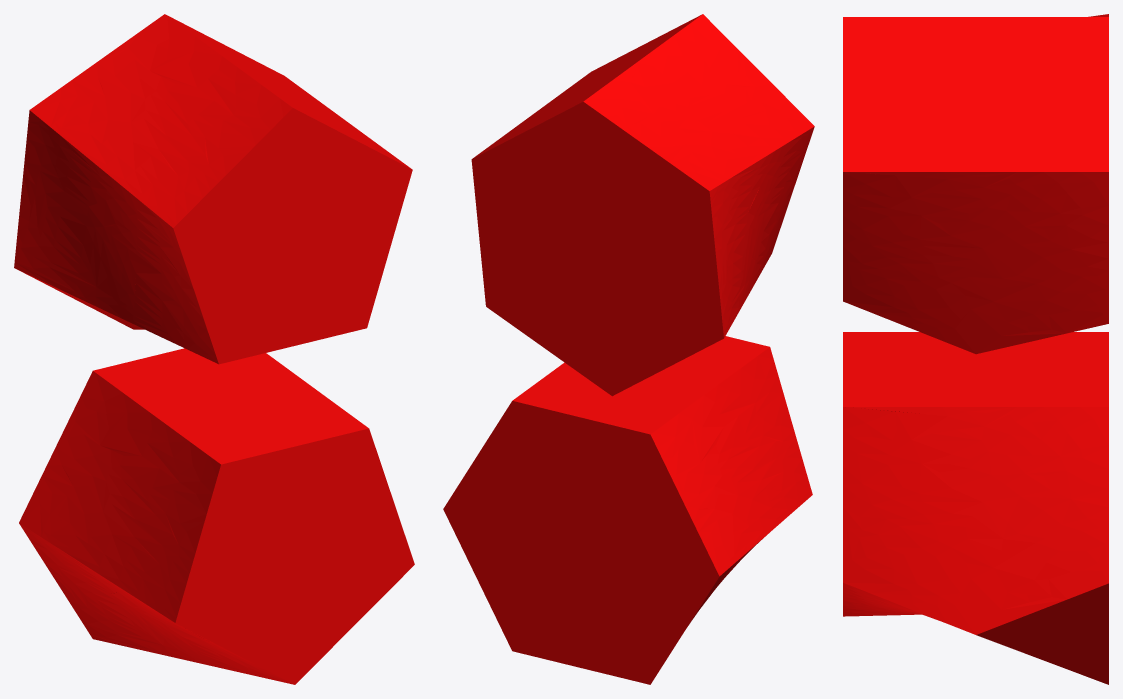
Rendered from scuto.glb.
3 renders of one model, left to right at view 1: azimuth 30°, elevation 25°; view 2: azimuth 150°, elevation 25°; view 3: azimuth 270°, elevation 25°, orthographic. The views are drawn at different scales.
Visible parts, largest first — view 1: entity_2; view 2: entity_2; view 3: entity_2.
Boxes of the visible parts, x1,y1,x2,y2 form: entity_2: [14, 14, 414, 684]; entity_2: [443, 14, 814, 684]; entity_2: [843, 14, 1108, 684].
Size of the model in its own units: 41.25 by 78.64 by 30.09.
